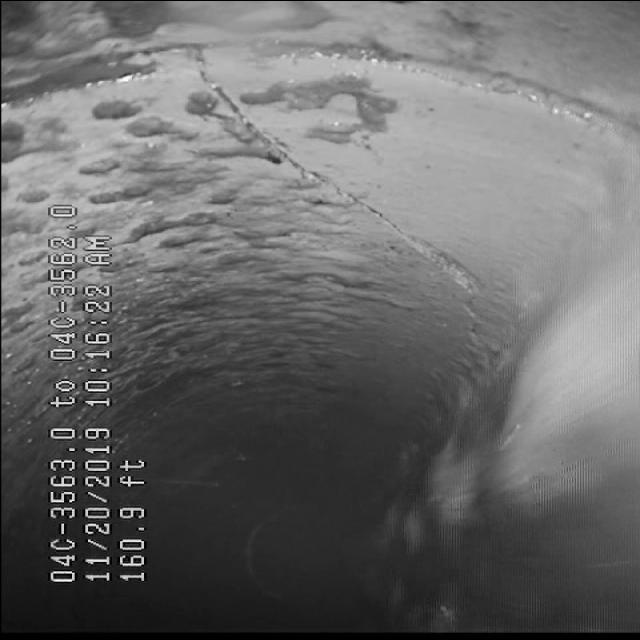Crack: (168, 63, 486, 271)
